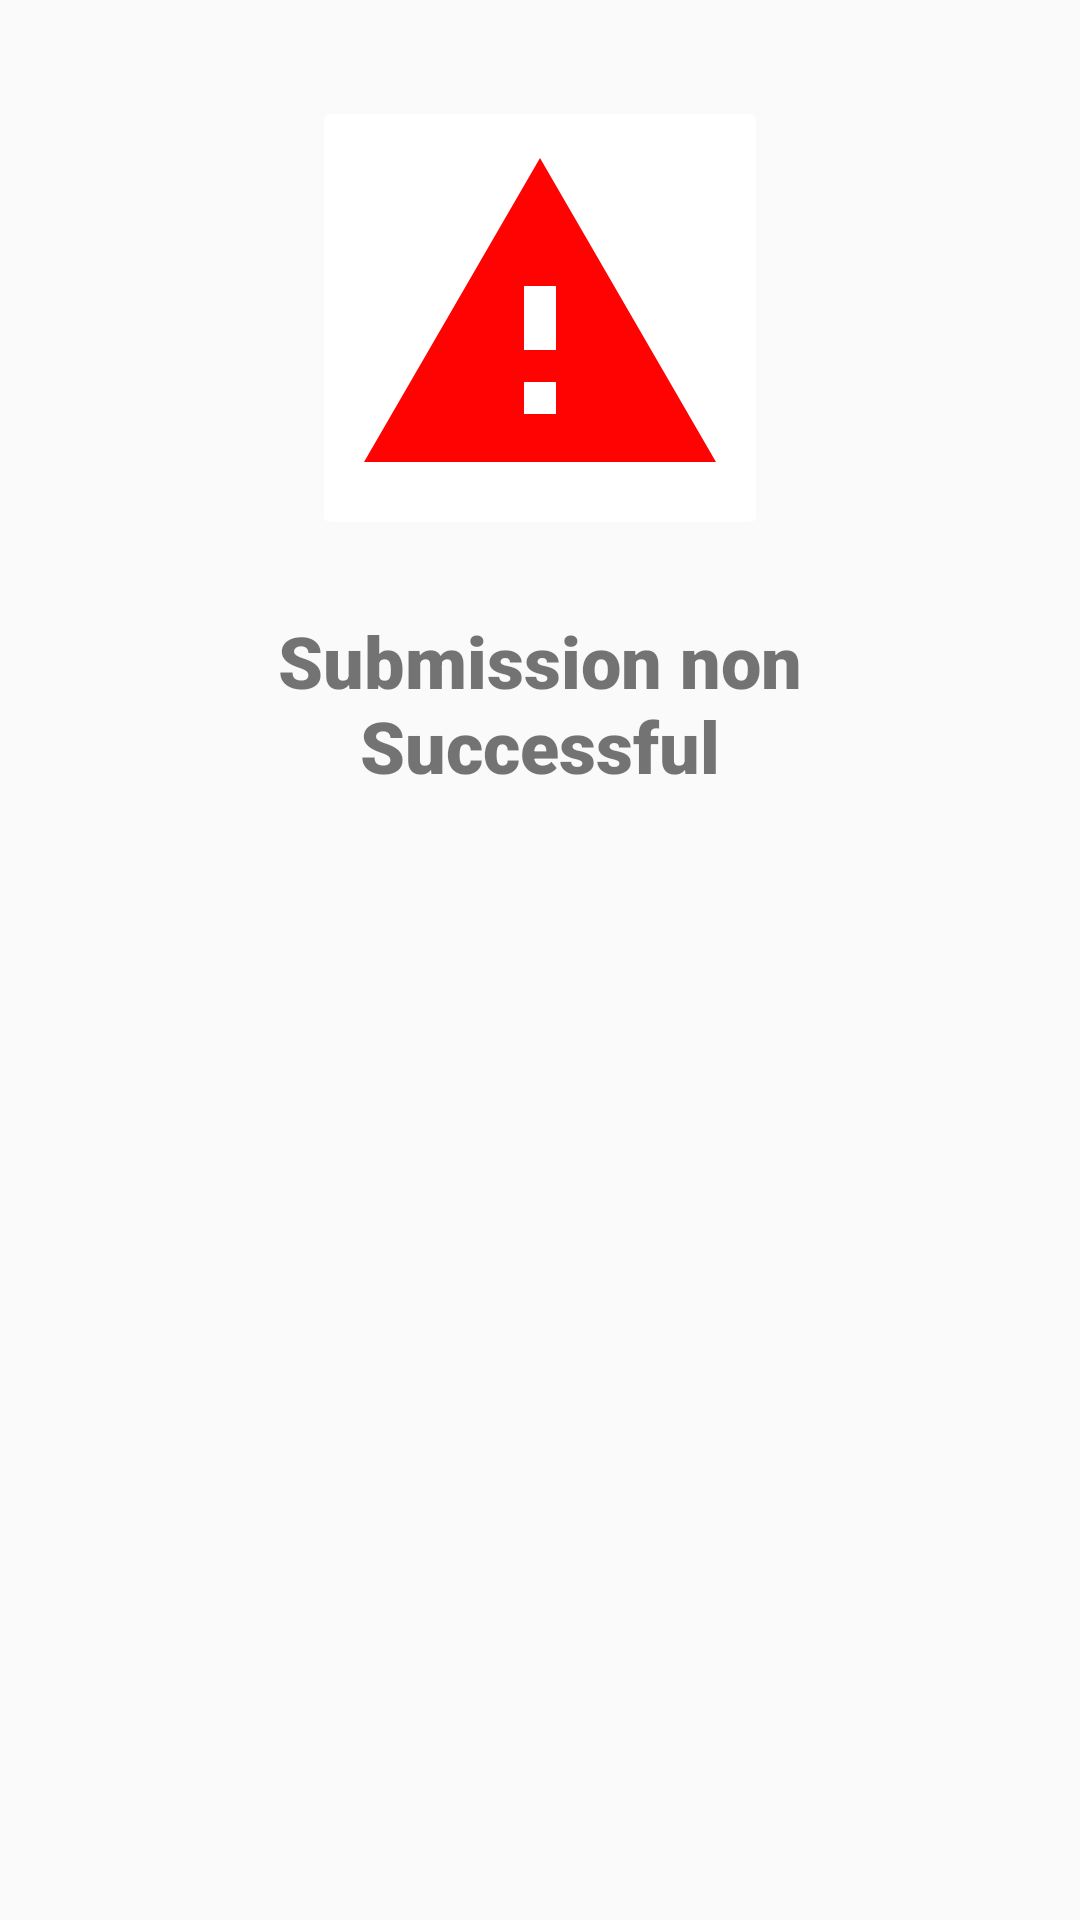

Named icons in this screenshot (1080 x 1920) and their centers, [x,y]:
report problem: [540,310]
